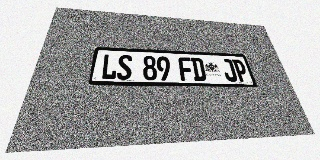8: (143, 55, 157, 80)
9: (156, 56, 171, 81)
D: (190, 58, 207, 81)
F: (178, 57, 194, 81)
J: (221, 59, 238, 82)
L: (100, 54, 118, 80)
P: (232, 59, 250, 82)
S: (116, 54, 132, 80)
